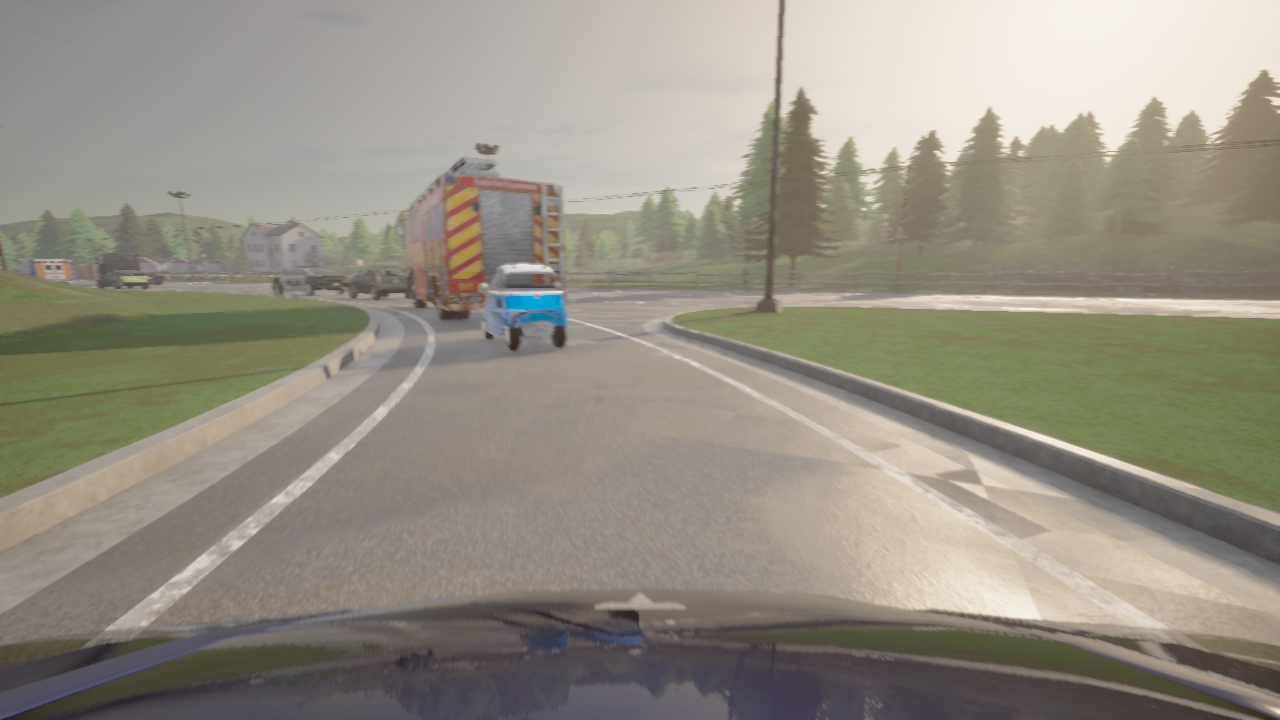cyclist: (0, 588, 1279, 719), (395, 154, 566, 321), (479, 264, 566, 350), (272, 265, 347, 295), (347, 265, 410, 300), (95, 253, 164, 284), (13, 259, 75, 284), (97, 270, 148, 289)
